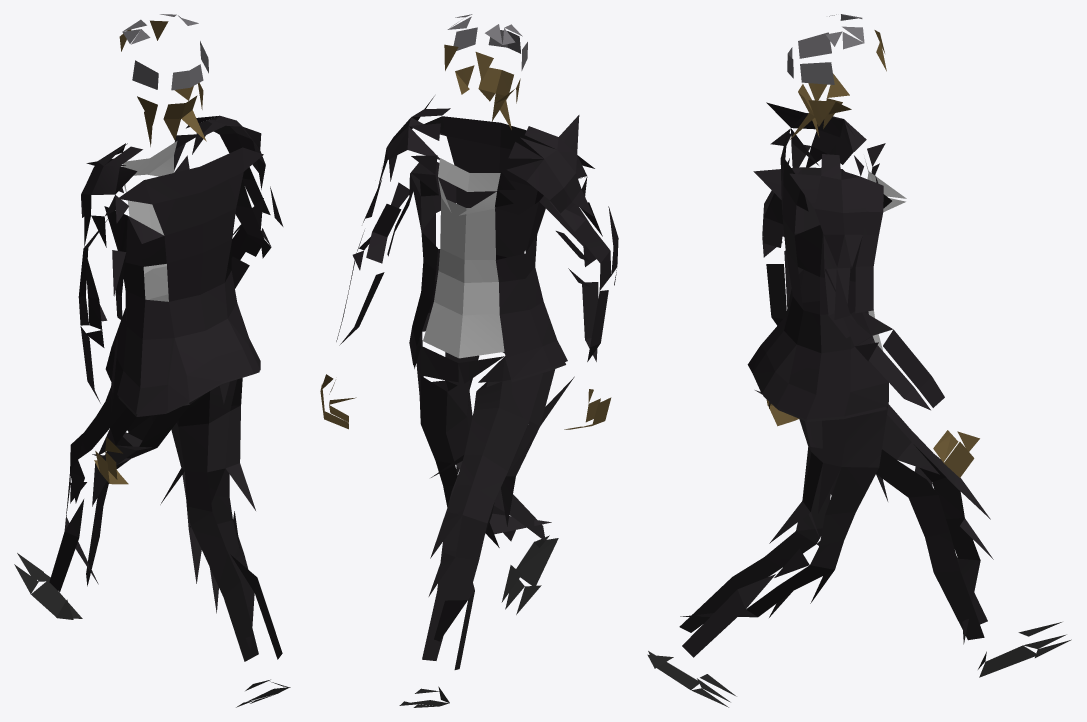
The model's file is personfar_4_w1.fbx.
3 views of the same model, side by side, from view 1: azimuth 30°, elevation 25°; view 2: azimuth 150°, elevation 25°; view 3: azimuth 270°, elevation 25° (orthographic). The views are drawn at different scales.
Parts seen in each view (by area): view 1: BaseHuman; view 2: BaseHuman; view 3: BaseHuman.
Part boxes in pixels (x1,y1,x2,y2): BaseHuman: (14,14,290,707); BaseHuman: (320,14,618,707); BaseHuman: (647,14,1071,707).
Bounding box in the file's own units: 0.3499 × 0.9769 × 0.5597.
